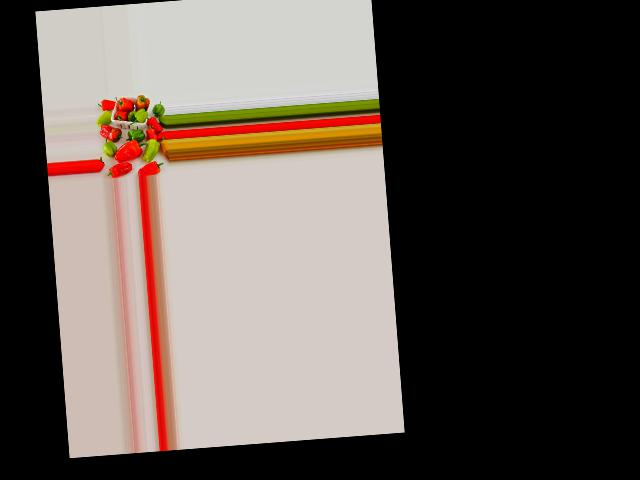bell_pepper: (140, 158, 165, 176)
